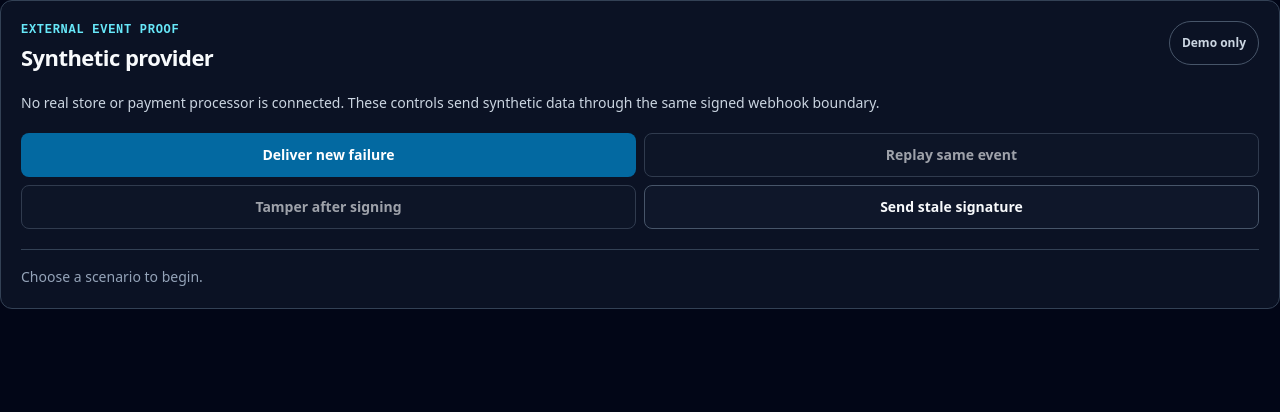
SyntheticProviderPanel › replays the cached envelope byte-for-byte without asking the signer again
Click the button "Deliver new failure".
click(328, 155)  # box [21,133,636,177]
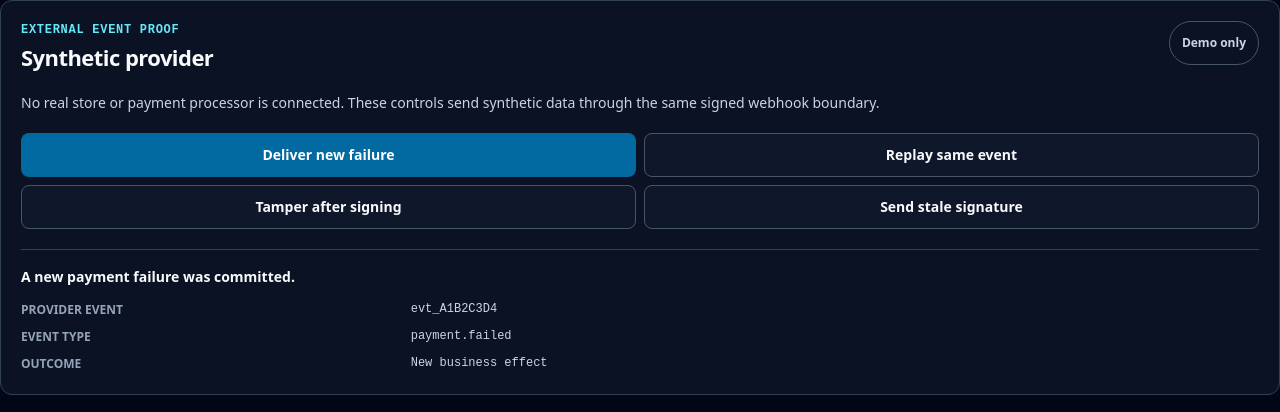
Now the text "A new payment failure was committed." is shown, box [21,267,295,286]
Click the button "Replay same event".
click(952, 155)  # box [644,133,1259,177]
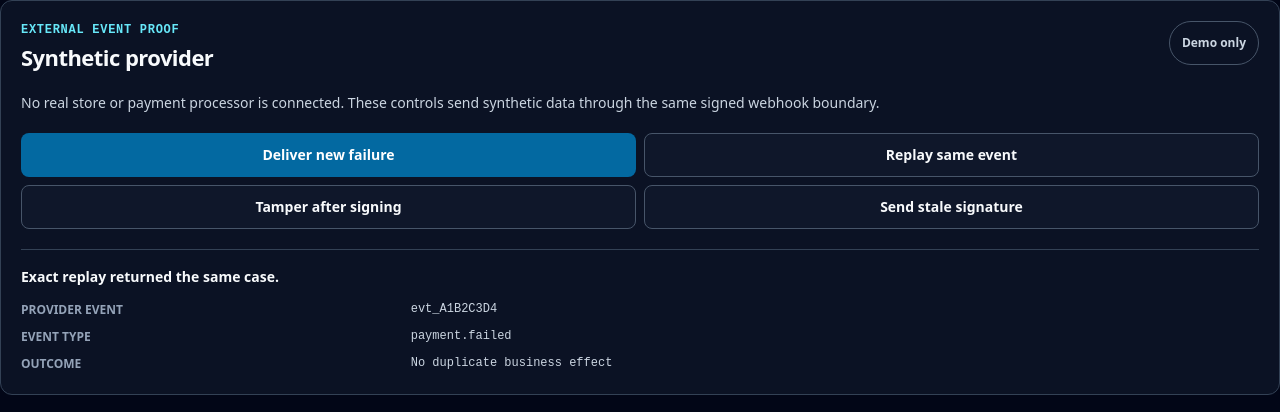
Now the text "Exact replay returned the same case." is shown, box [21,267,279,286]
Now the text "No duplicate business effect" is shown, box [411,356,612,370]
